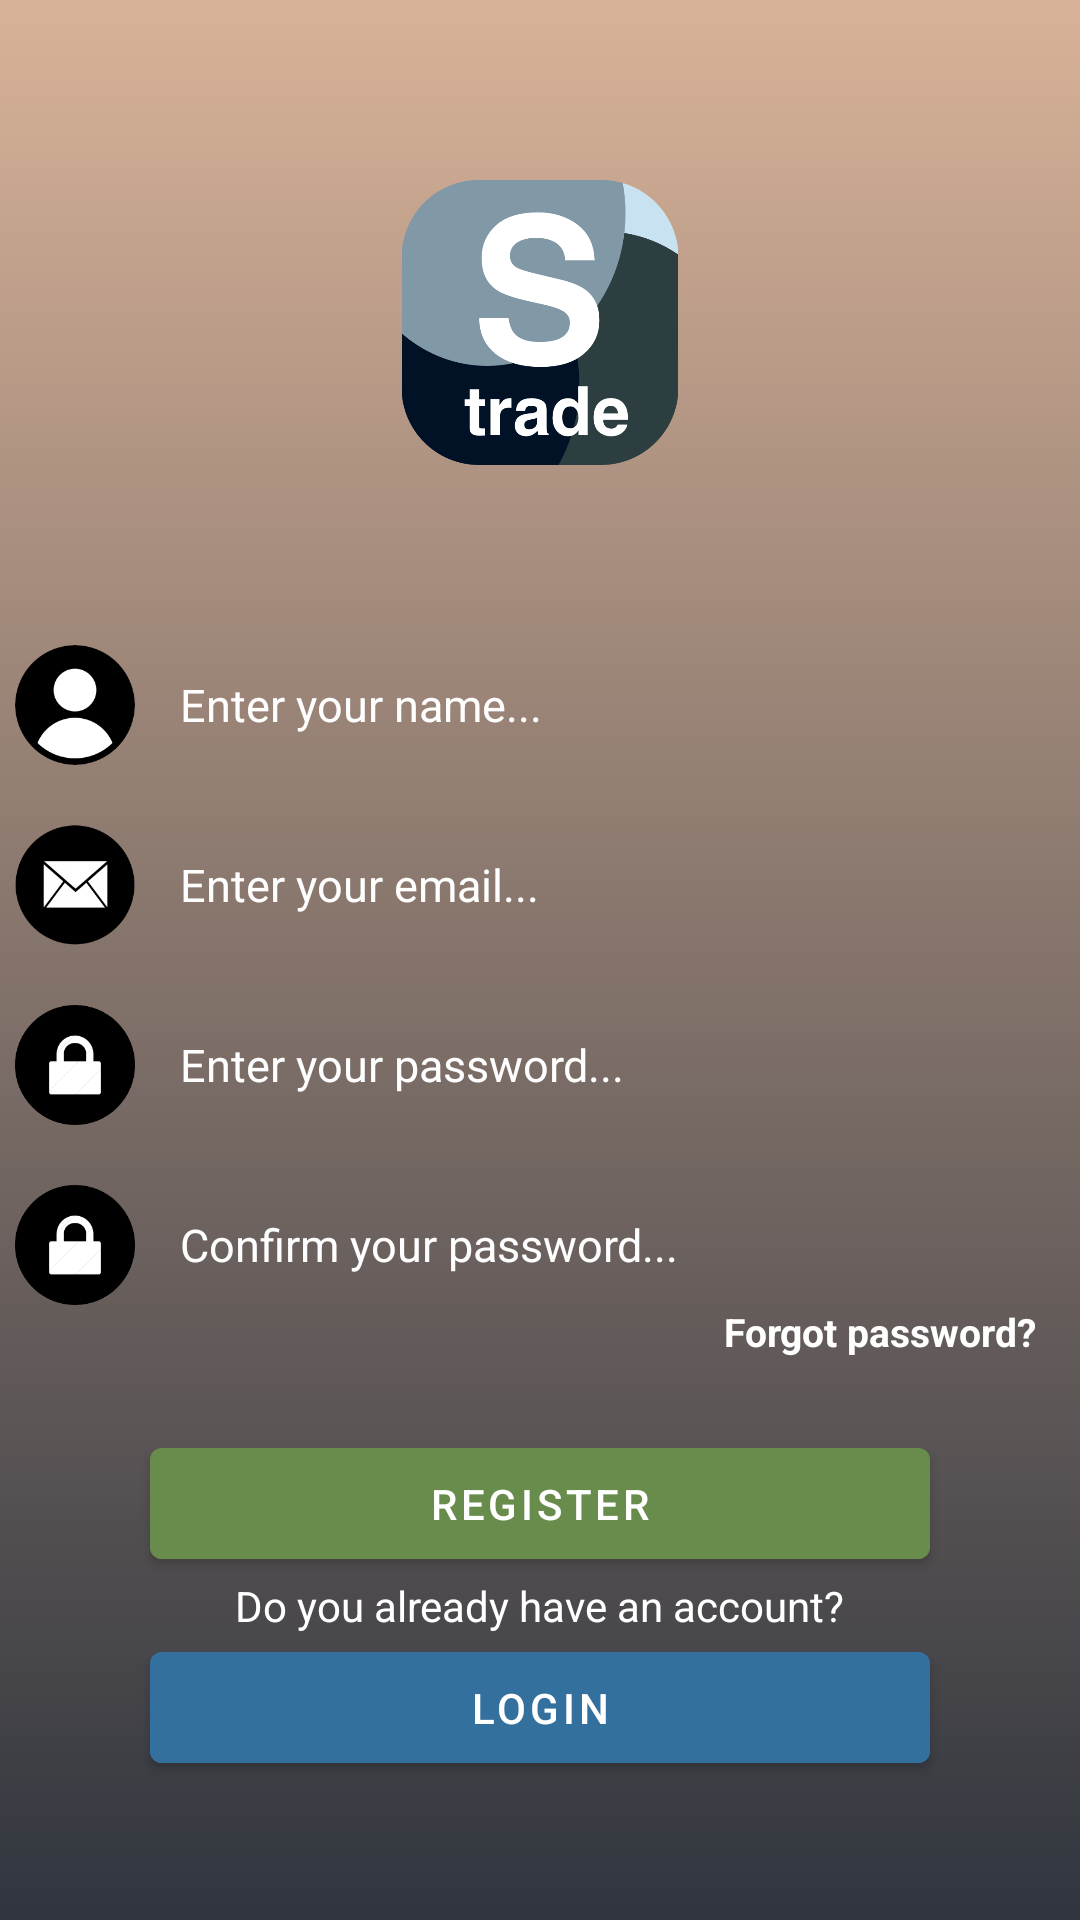

Point at icon controls on the screen. Image size 1080px×1920px, points as (x,y).
username: (75,705)
